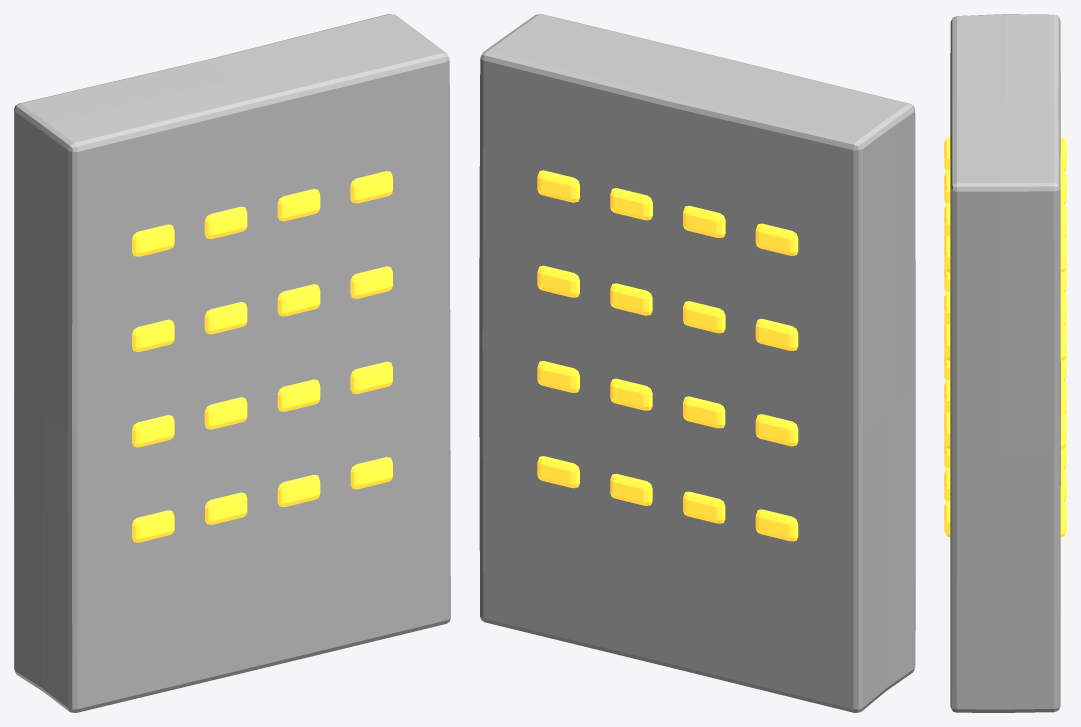
The model's file is mesopotamia_tablet.fbx.
3 views of the same model, side by side, from view 1: azimuth 30°, elevation 25°; view 2: azimuth 150°, elevation 25°; view 3: azimuth 270°, elevation 25° (orthographic). The views are drawn at different scales.
Visible parts, largest first — view 1: mesopotamia_tablet; view 2: mesopotamia_tablet; view 3: mesopotamia_tablet.
Part boxes in pixels (<box>): mesopotamia_tablet: <box>14,14,450,712</box>; mesopotamia_tablet: <box>479,14,915,712</box>; mesopotamia_tablet: <box>944,14,1066,712</box>.
Bounding box in the file's own units: 0.6319 × 0.9022 × 0.188.
